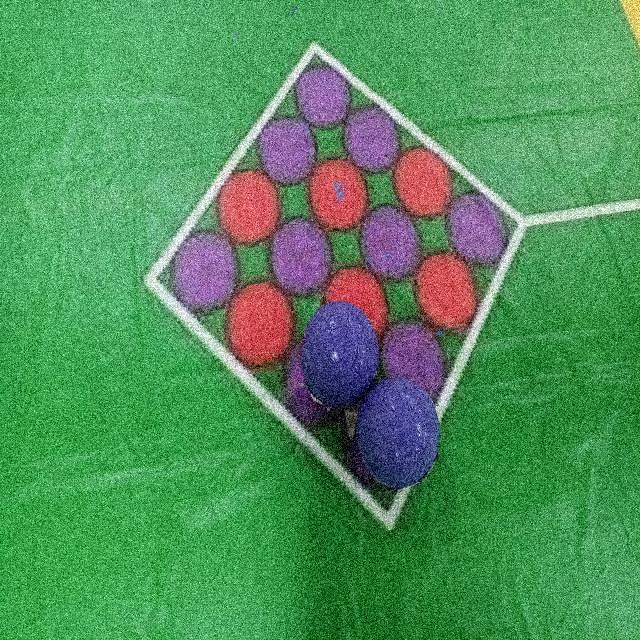purple_ball: (302, 301, 378, 408)
